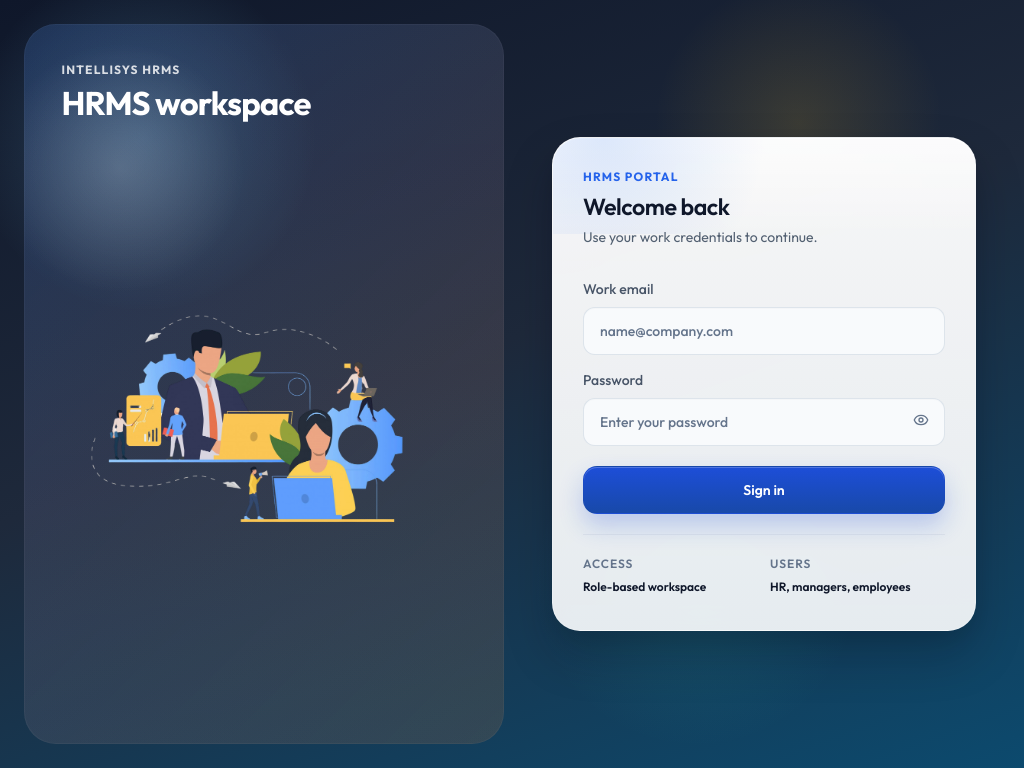
Test: LoginPage › shows an API error message when login fails
In the field labelled "Work email": (764, 331) [583, 307, 945, 355], type "taylor@example.com"
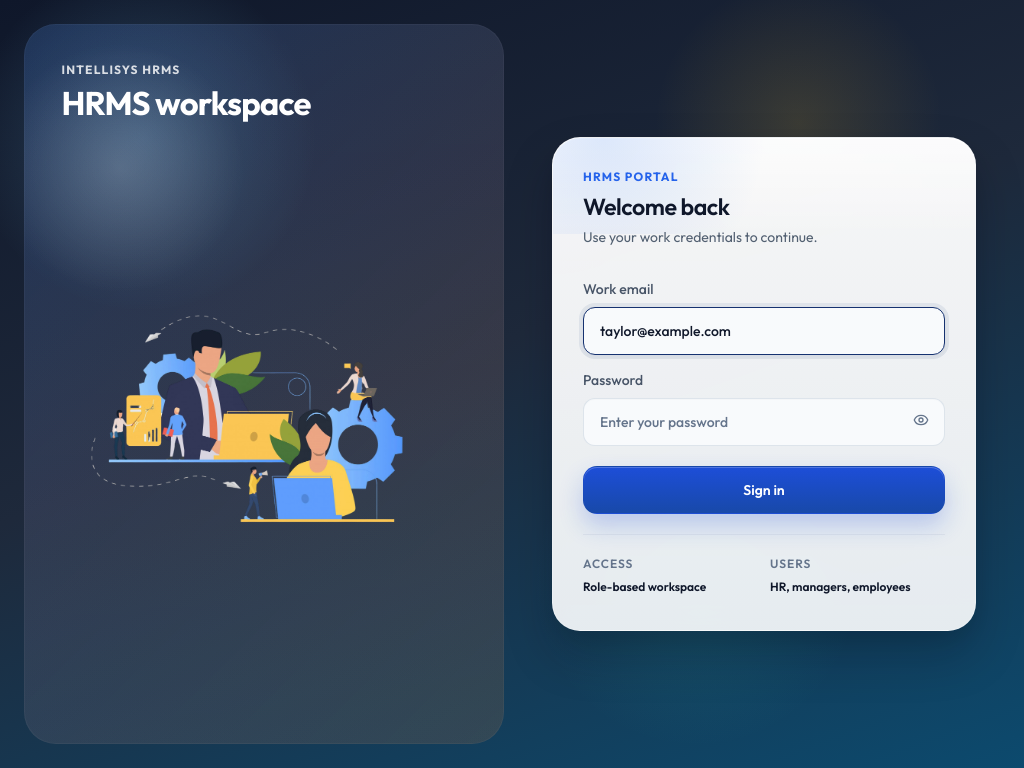
In the password field labelled "Password": (764, 422) [583, 398, 945, 446], type "bad-password"
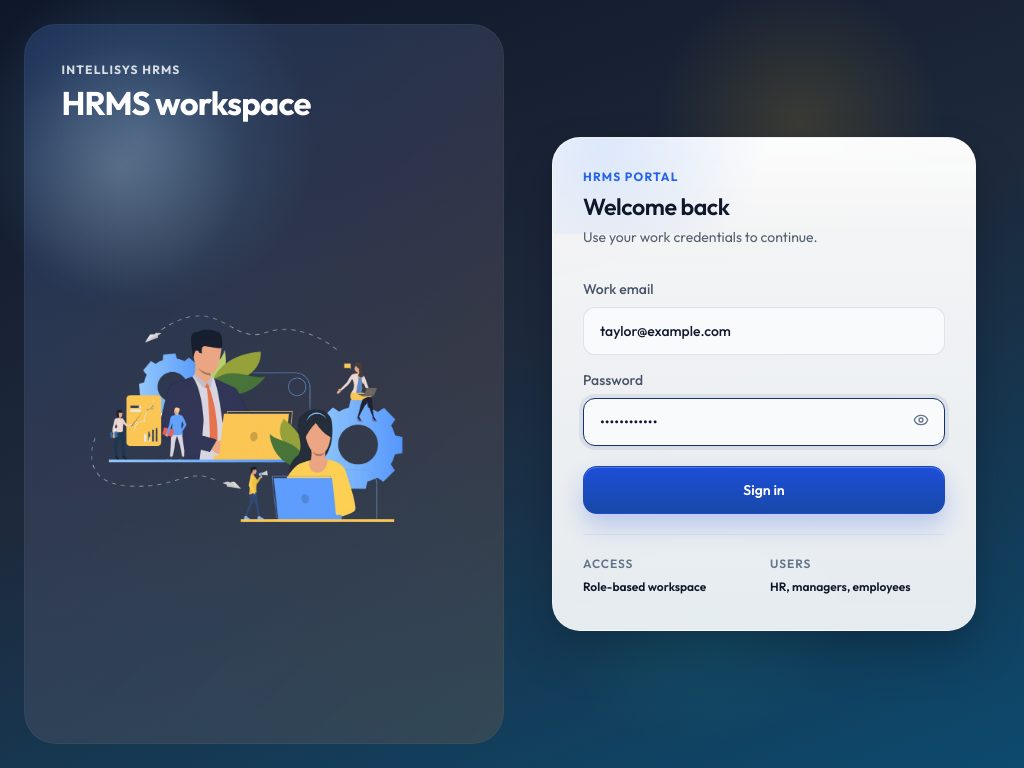
Click the button "Sign in": (764, 490) [583, 466, 945, 514]
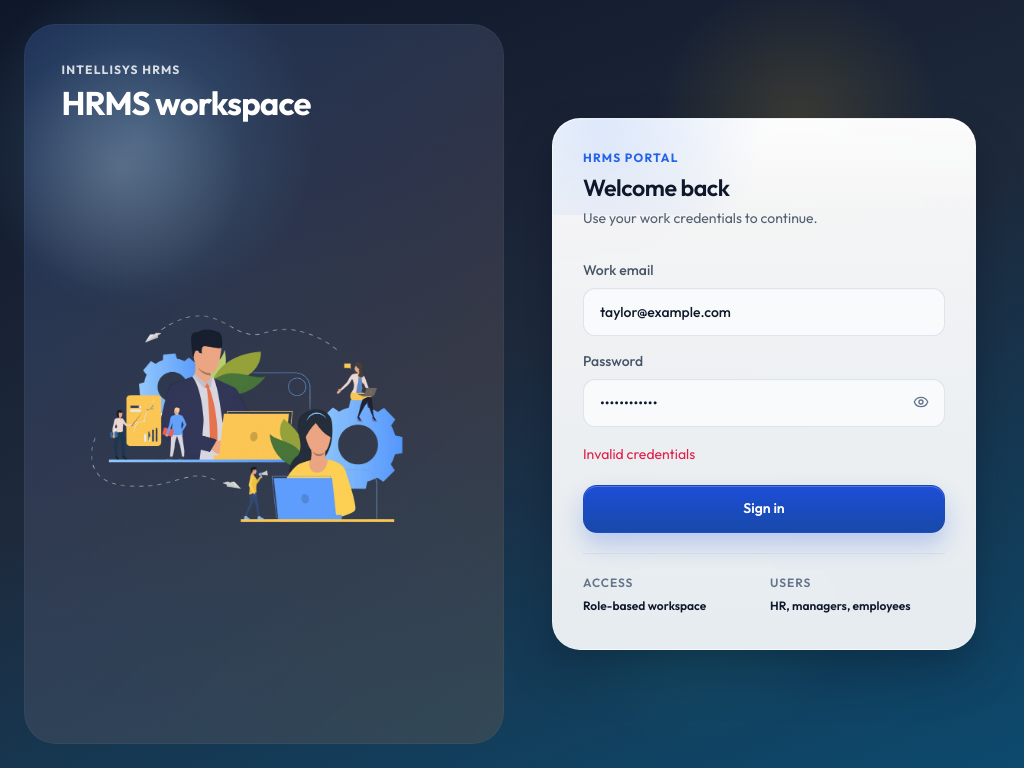
Now the text "Invalid credentials" is shown, box [583, 445, 695, 463]
